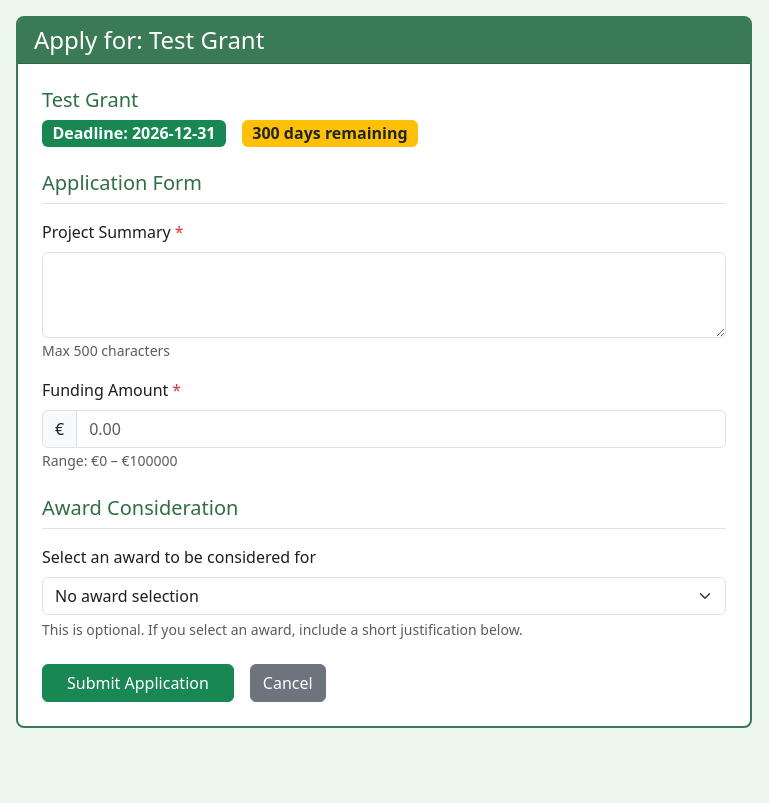
Test: GrantApplicationForm › blocks submit when required fields are empty and shows alert
Click the button "Submit Application".
click(138, 683)  # box [42,664,234,702]
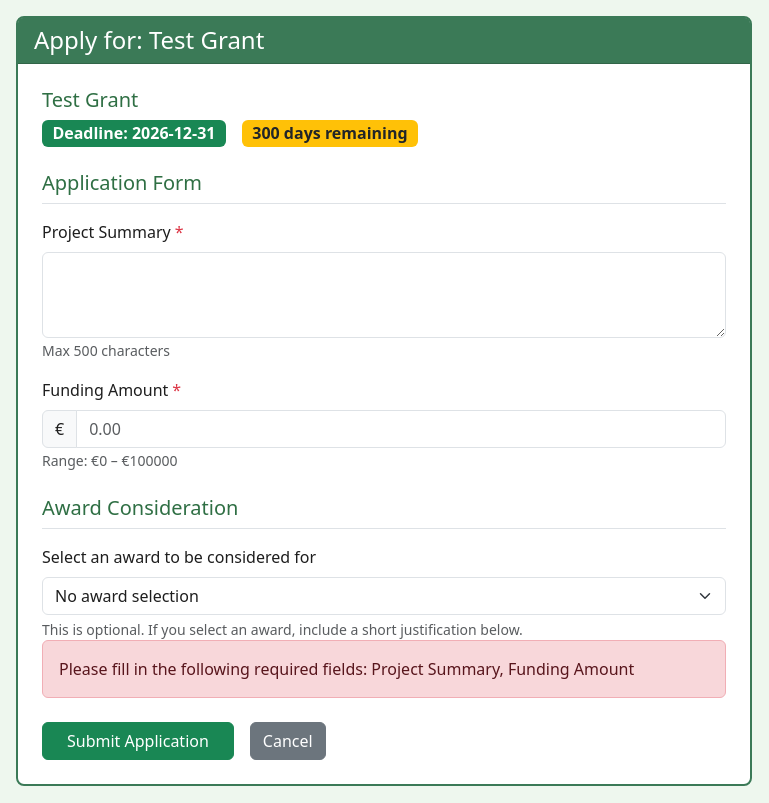
expect the message reads "Please fill in the following required fields: Project Summary, Funding Amount": met, box [59,658,634,680]
